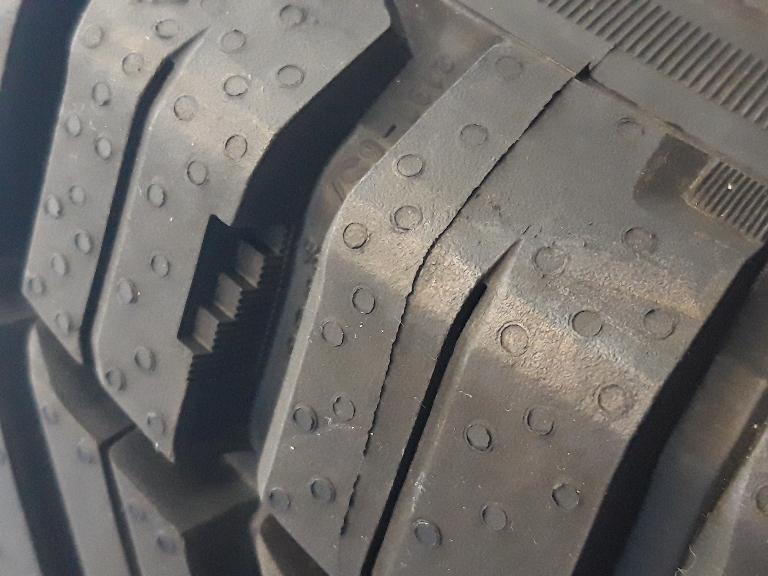temoin:100: (175, 212, 302, 389)
